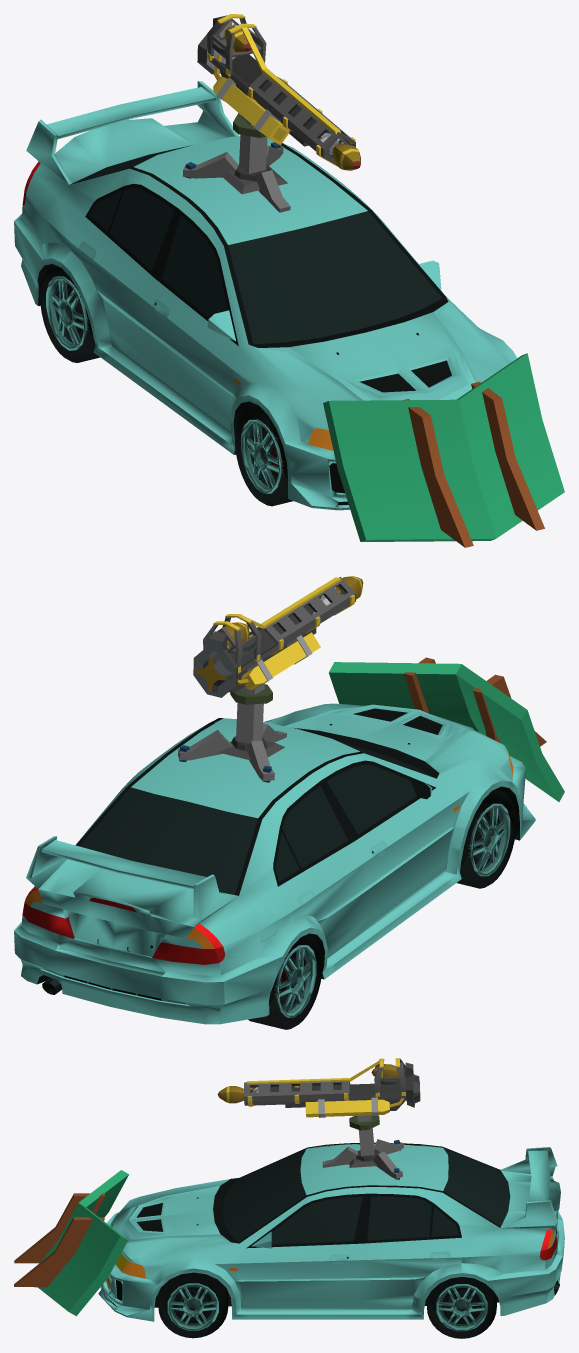
File: Player8.fbx
The picture shows the model from 3 angles, top to bottom: view 1: azimuth 30°, elevation 25°; view 2: azimuth 150°, elevation 25°; view 3: azimuth 270°, elevation 25°; orthographic projection. The views are drawn at different scales.
Parts seen in each view (by area): view 1: Object_7, Car.001_Circle.000_Car_0.010, Car.001_Circle.000_Car_0.007, Car.001_Circle.000_Car_0.011, Object_3.001, Object_3.004, Car.001_Circle.000_Car_0.006; view 2: Object_7, Car.001_Circle.000_Car_0.010, Car.001_Circle.000_Car_0.007, Car.001_Circle.000_Car_0.011, Object_3.001, Object_3.004; view 3: Object_7, Car.001_Circle.000_Car_0.010, Car.001_Circle.000_Car_0.007, Object_3.002, Object_3.003, Car.001_Circle.000_Car_0.011, Car.001_Circle.000_Car_0.006.
Boxes of the visible parts, x1,y1,x2,y2 form: Object_7: [14, 81, 517, 510]; Car.001_Circle.000_Car_0.010: [323, 353, 564, 547]; Car.001_Circle.000_Car_0.007: [197, 14, 355, 165]; Car.001_Circle.000_Car_0.011: [182, 113, 290, 212]; Object_3.001: [235, 405, 293, 506]; Object_3.004: [40, 264, 100, 362]; Car.001_Circle.000_Car_0.006: [319, 133, 360, 170]; Object_7: [14, 703, 535, 1024]; Car.001_Circle.000_Car_0.010: [328, 657, 564, 801]; Car.001_Circle.000_Car_0.007: [193, 577, 355, 697]; Car.001_Circle.000_Car_0.011: [178, 683, 286, 782]; Object_3.001: [457, 789, 516, 888]; Object_3.004: [248, 933, 322, 1029]; Object_7: [98, 1142, 564, 1321]; Car.001_Circle.000_Car_0.010: [14, 1170, 128, 1316]; Car.001_Circle.000_Car_0.007: [244, 1058, 420, 1117]; Object_3.002: [158, 1272, 228, 1338]; Object_3.003: [427, 1276, 496, 1338]; Car.001_Circle.000_Car_0.011: [322, 1115, 403, 1179]; Car.001_Circle.000_Car_0.006: [217, 1086, 258, 1103].
Size of the model in its own units: 154 by 209 by 436.
3 materials, 3 textured.
